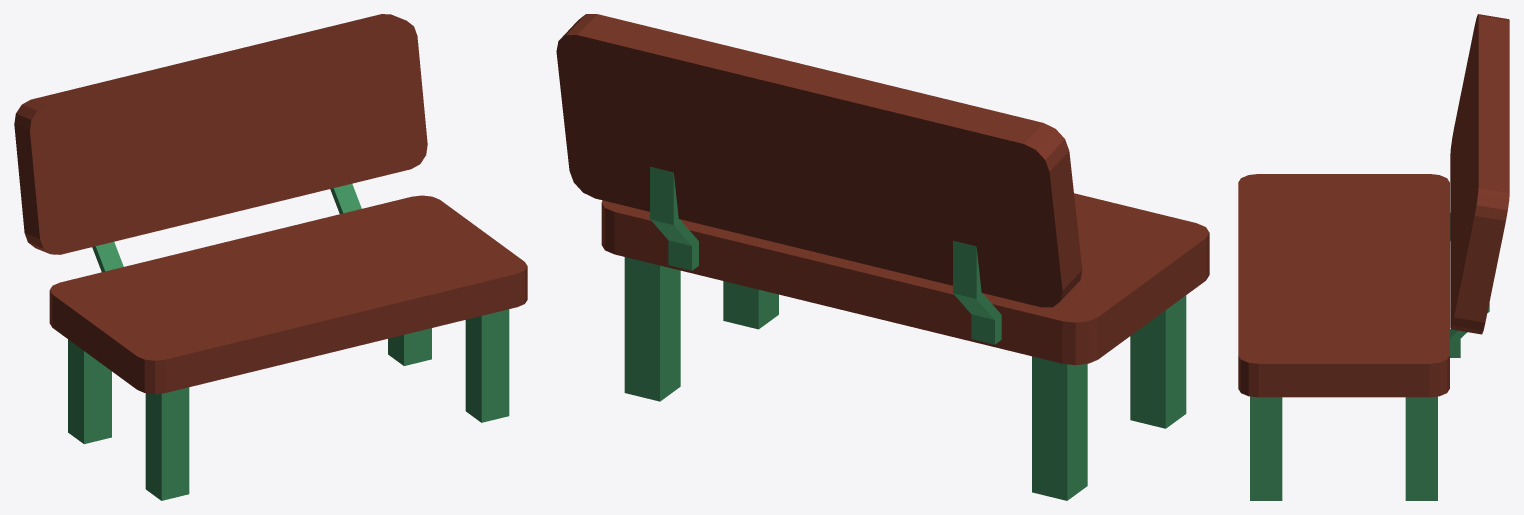
The model's file is Скамейка.obj.
3 renders of one model, left to right at view 1: azimuth 30°, elevation 25°; view 2: azimuth 150°, elevation 25°; view 3: azimuth 270°, elevation 25°, orthographic. The views are drawn at different scales.
Visible parts, largest first — view 1: Cube.001, Cube, Cube.002, Cube.003; view 2: Cube.001, Cube, Cube.002, Cube.003; view 3: Cube, Cube.001, Cube.002, Cube.003.
Boxes of the visible parts, x1=… form: Cube.001: x1=14, y1=14, x2=427, y2=254; Cube: x1=49, y1=195, x2=527, y2=394; Cube.002: x1=68, y1=309, x2=509, y2=500; Cube.003: x1=92, y1=183, x2=361, y2=272; Cube.001: x1=556, y1=14, x2=1082, y2=307; Cube: x1=601, y1=193, x2=1209, y2=365; Cube.002: x1=624, y1=257, x2=1186, y2=500; Cube.003: x1=650, y1=166, x2=1001, y2=344; Cube: x1=1238, y1=174, x2=1449, y2=397; Cube.001: x1=1450, y1=14, x2=1509, y2=334; Cube.002: x1=1250, y1=396, x2=1437, y2=500; Cube.003: x1=1450, y1=213, x2=1489, y2=357.
Bounding box in the file's own units: 2 × 1.54 × 1.21.
